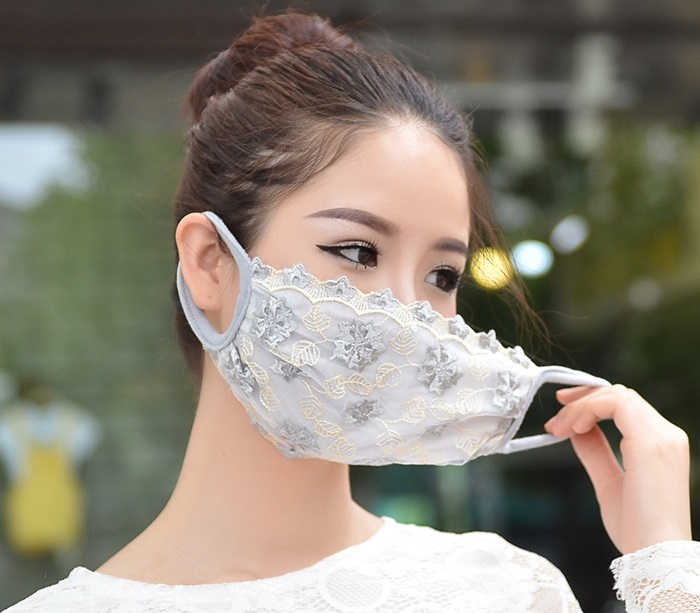face_mask: (235, 135, 470, 441)
